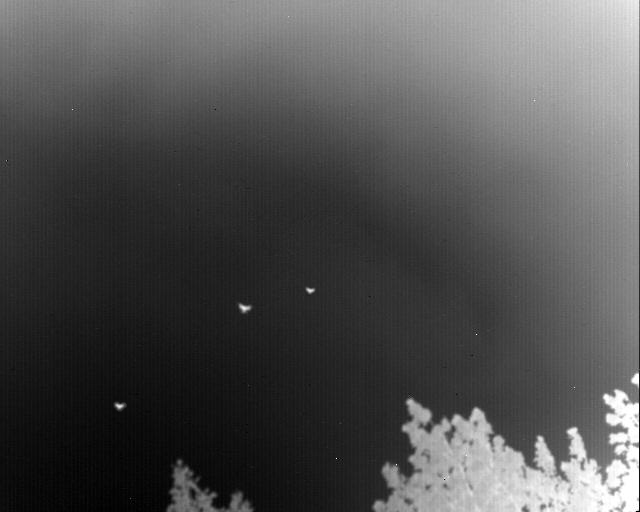plane: (234, 300, 253, 315), (112, 399, 127, 411), (303, 285, 317, 295)
